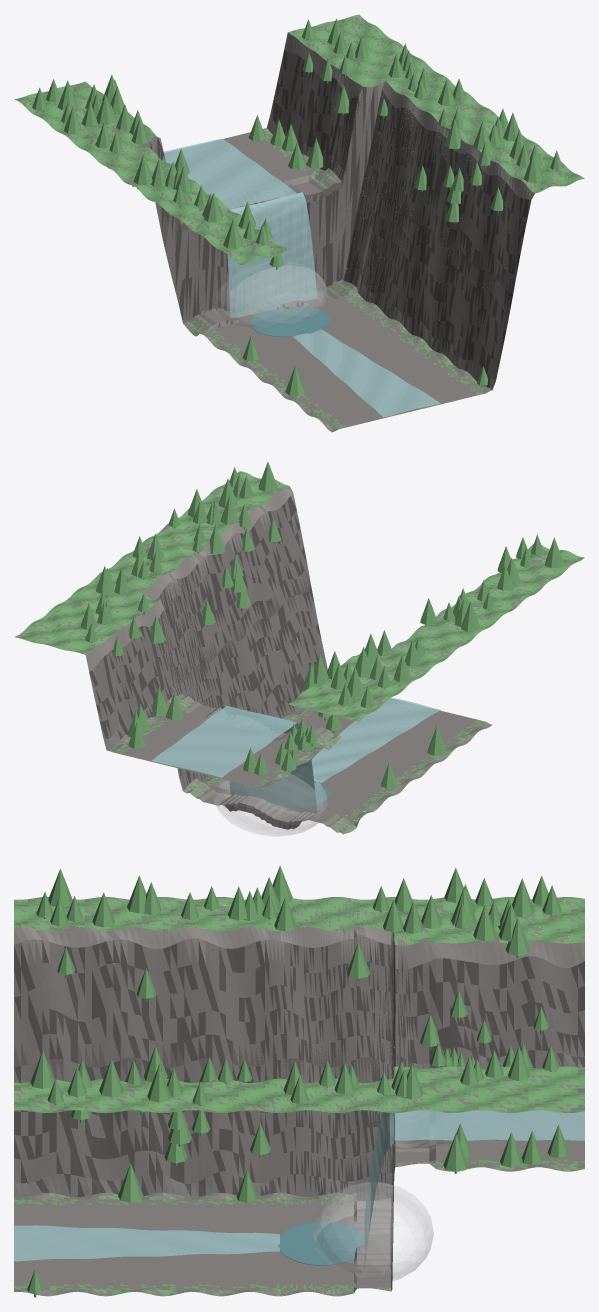
File: makhuntseti.glb
3 renders of one model, top to bottom at view 1: azimuth 30°, elevation 25°; view 2: azimuth 150°, elevation 25°; view 3: azimuth 270°, elevation 25°, orthographic. The views are drawn at different scales.
Visible parts, largest first — view 1: makhuntseti_rock, makhuntseti_veg, makhuntseti_rockDark, makhuntseti_water, makhuntseti_mist, makhuntseti_cap, makhuntseti_soft, makhuntseti_waterPool; view 2: makhuntseti_rock, makhuntseti_veg, makhuntseti_rockDark, makhuntseti_water, makhuntseti_mist, makhuntseti_cap, makhuntseti_soft; view 3: makhuntseti_rock, makhuntseti_veg, makhuntseti_rockDark, makhuntseti_water, makhuntseti_cap, makhuntseti_mist, makhuntseti_soft, makhuntseti_waterPool.
Boxes of the visible parts, <box> form: makhuntseti_rock: <box>18,15,578,432</box>; makhuntseti_veg: <box>14,14,584,430</box>; makhuntseti_rockDark: <box>150,50,528,387</box>; makhuntseti_water: <box>163,138,440,417</box>; makhuntseti_mist: <box>213,266,327,327</box>; makhuntseti_cap: <box>140,33,532,215</box>; makhuntseti_soft: <box>161,154,513,323</box>; makhuntseti_waterPool: <box>251,306,329,336</box>; makhuntseti_rock: <box>17,477,583,834</box>; makhuntseti_veg: <box>14,462,584,833</box>; makhuntseti_rockDark: <box>89,496,321,829</box>; makhuntseti_water: <box>152,697,440,813</box>; makhuntseti_mist: <box>213,773,327,836</box>; makhuntseti_cap: <box>85,488,296,671</box>; makhuntseti_soft: <box>176,571,357,829</box>; makhuntseti_rock: <box>14,897,584,1296</box>; makhuntseti_veg: <box>14,865,584,1297</box>; makhuntseti_rockDark: <box>14,940,584,1288</box>; makhuntseti_water: <box>14,1104,584,1269</box>; makhuntseti_cap: <box>14,927,584,1075</box>; makhuntseti_mist: <box>313,1182,433,1280</box>; makhuntseti_soft: <box>14,1041,432,1286</box>; makhuntseti_waterPool: <box>278,1221,364,1265</box>.
Size of the model in its own units: 23.87 by 16.01 by 27.
